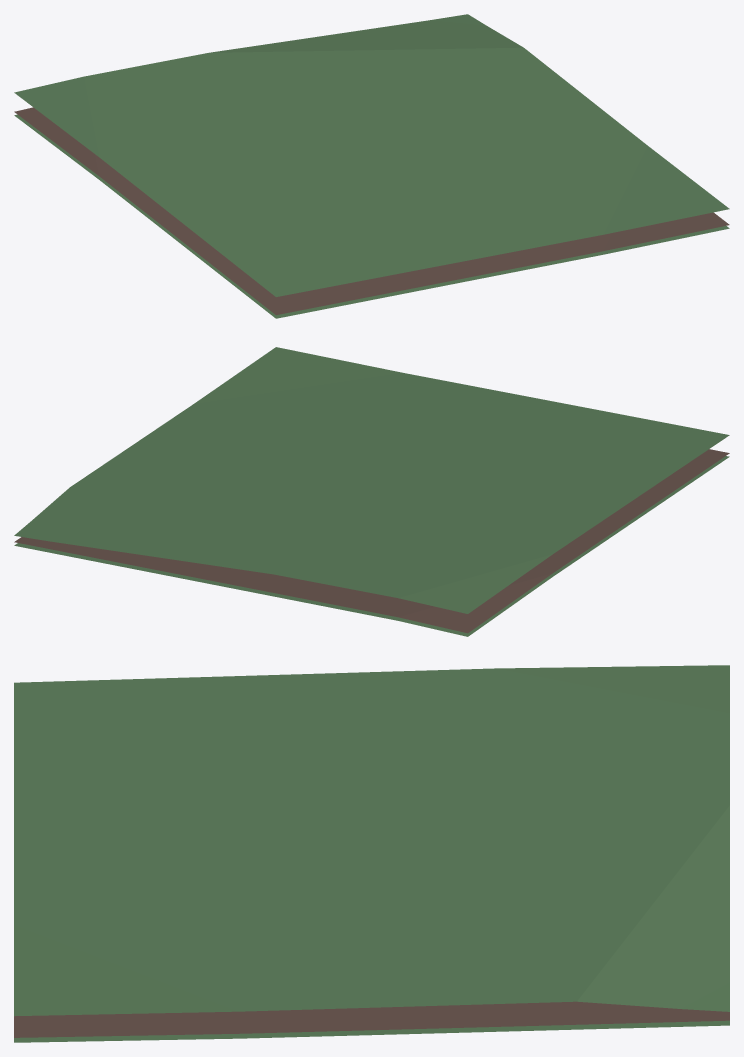
The model's file is cell_223.obj.
The picture shows the model from 3 angles, top to bottom: view 1: azimuth 30°, elevation 25°; view 2: azimuth 150°, elevation 25°; view 3: azimuth 270°, elevation 25°; orthographic projection. The views are drawn at different scales.
Bounding box in the file's own units: 1 × 0.1156 × 1.
